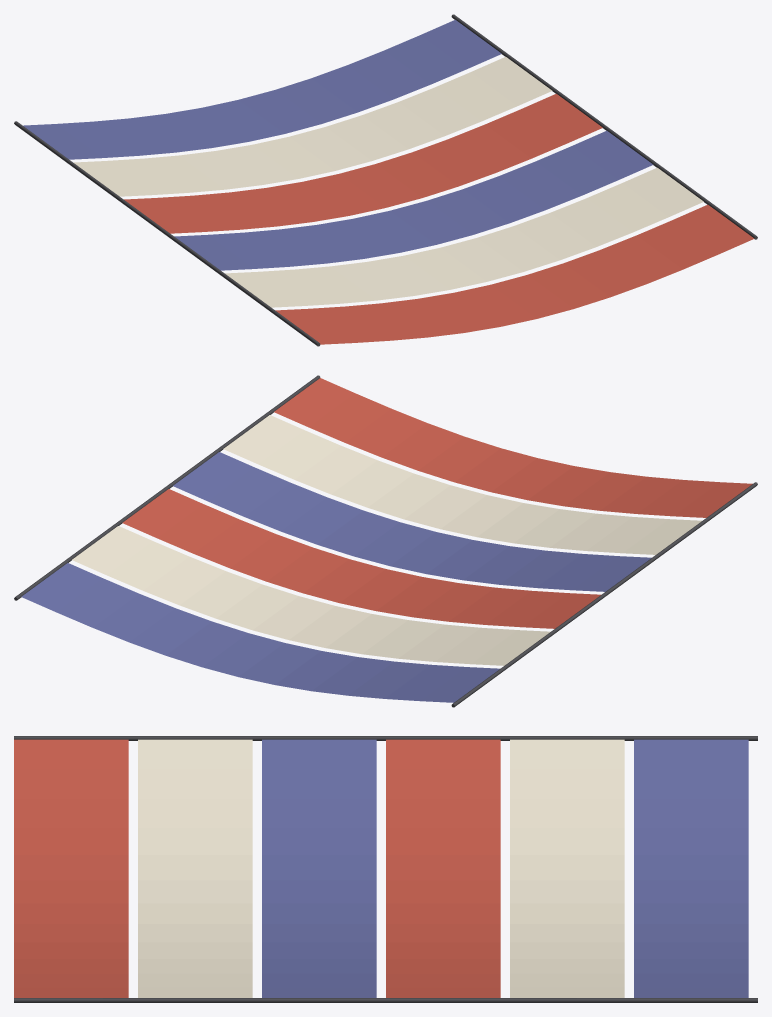
The model's file is SM_SouqAwning.fbx.
3 views of the same model, one above another, from view 1: azimuth 30°, elevation 25°; view 2: azimuth 150°, elevation 25°; view 3: azimuth 270°, elevation 25° (orthographic). The views are drawn at different scales.
Visible parts, largest first — view 1: SM_SouqAwning; view 2: SM_SouqAwning; view 3: SM_SouqAwning.
Boxes of the visible parts, x1,y1,x2,y2 form: SM_SouqAwning: (14, 14, 757, 346); SM_SouqAwning: (14, 375, 757, 707); SM_SouqAwning: (14, 736, 757, 1002).
Size of the model in its own units: 1008 by 63.46 by 1200.
